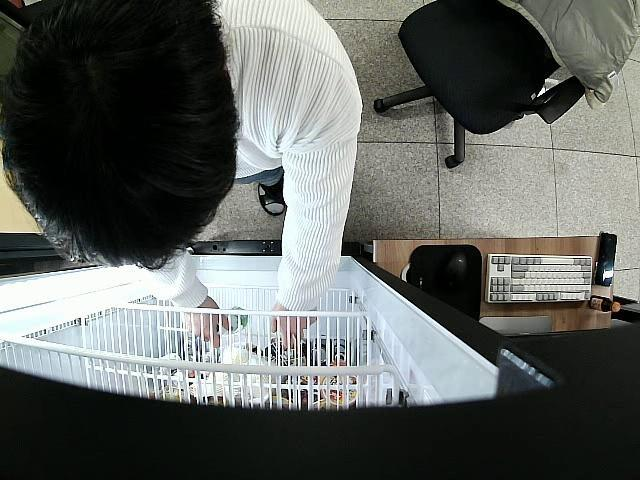18_trevi: (216, 306, 246, 338)
